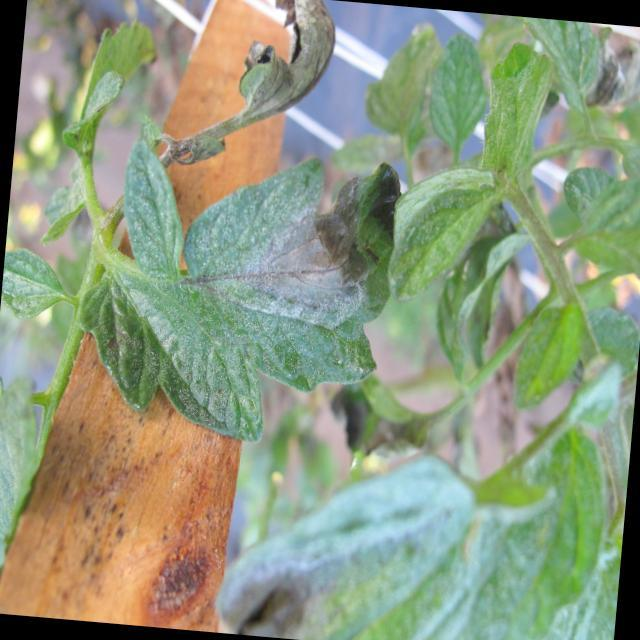Tomato late blight leaf: (46, 96, 448, 462)
